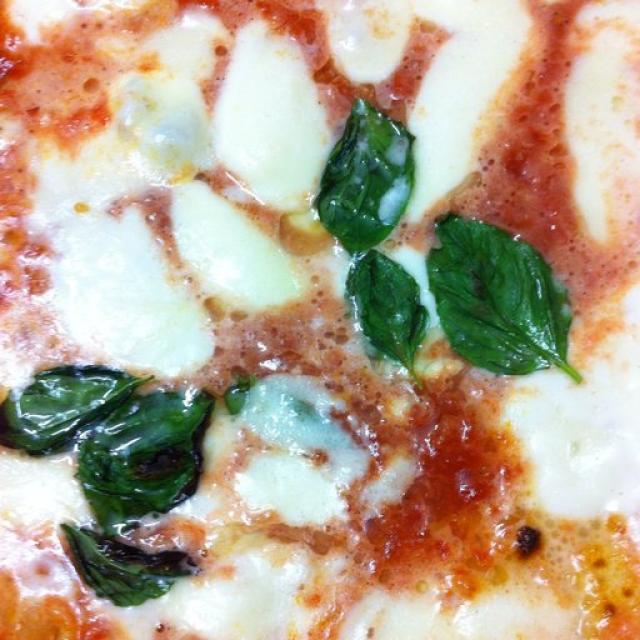Basil: (0, 364, 205, 604), (429, 216, 584, 385), (314, 98, 416, 259), (344, 250, 426, 388), (221, 375, 260, 421)
Pizza: (0, 0, 640, 640)
